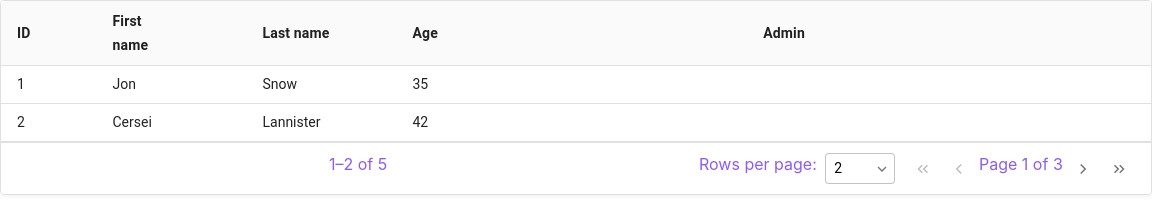
Test case: DataGrid › Pagination › paginates data
Expected: the text "1–2 of 5" is shown, [329,152,387,177]
Expected: the text "Jon" is shown, [96,66,246,104]
Next page
What coordinates should you click on to do the following:
click the button titled "Next page"
I would click on:
 (1083, 168)
Its box is [1067,152,1099,184].
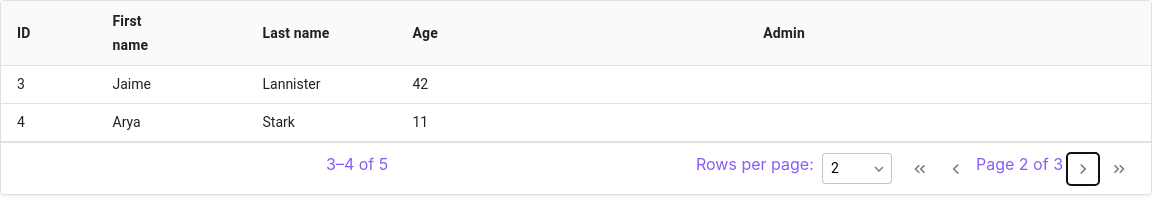
Result: the text "3–4 of 5" is shown at [326,152,388,177]
Result: the text "Jaime" is shown at [96,66,246,104]
